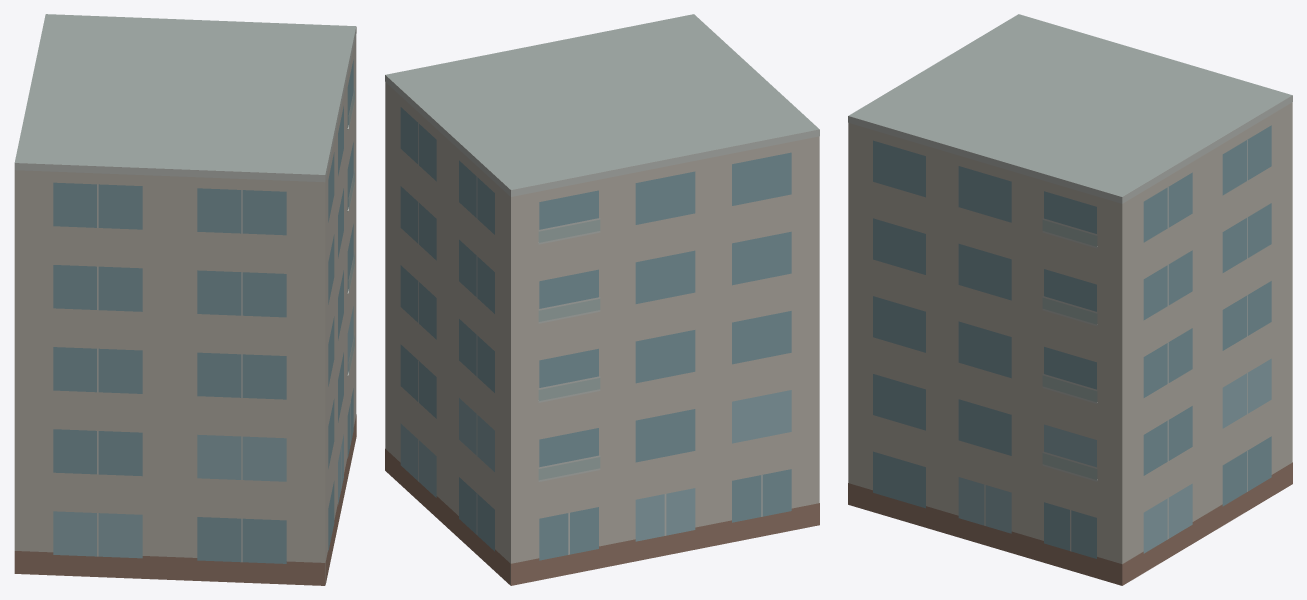
The model's file is survey-upis-32710533.glb.
3 renders of one model, left to right at view 1: azimuth 30°, elevation 25°; view 2: azimuth 150°, elevation 25°; view 3: azimuth 270°, elevation 25°, orthographic. The views are drawn at different scales.
Parts seen in each view (by area): view 1: survey-upis-32710533.tmp; view 2: survey-upis-32710533.tmp; view 3: survey-upis-32710533.tmp.
Boxes of the visible parts, x1,y1,x2,y2 form: survey-upis-32710533.tmp: [14, 14, 356, 585]; survey-upis-32710533.tmp: [385, 14, 819, 585]; survey-upis-32710533.tmp: [848, 14, 1292, 585].
Size of the model in its own units: 14.15 by 14 by 14.52.
